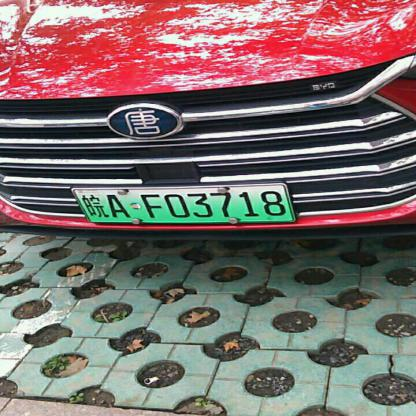lp: (74, 185, 294, 222)
